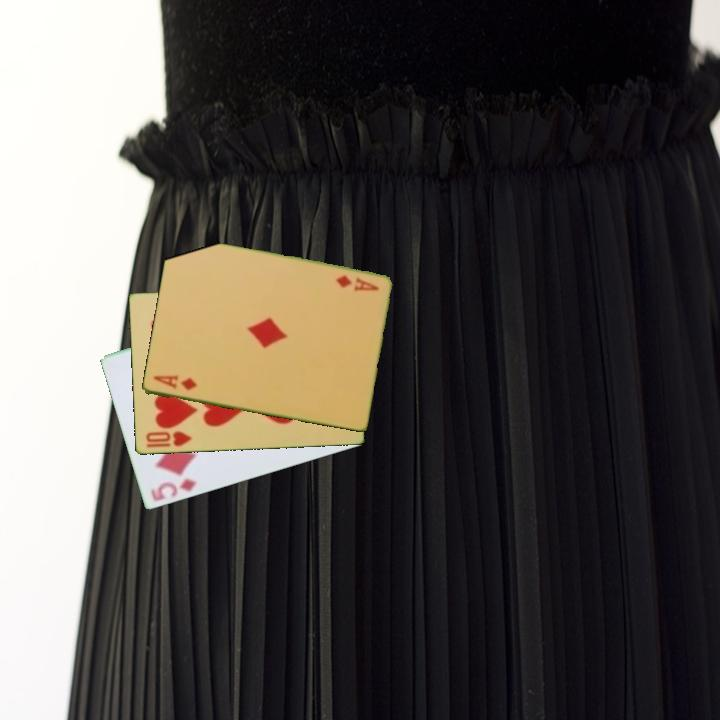10h: (142, 428, 195, 449)
5d: (147, 475, 199, 505)
Ad: (332, 272, 381, 294), (150, 372, 199, 393)
